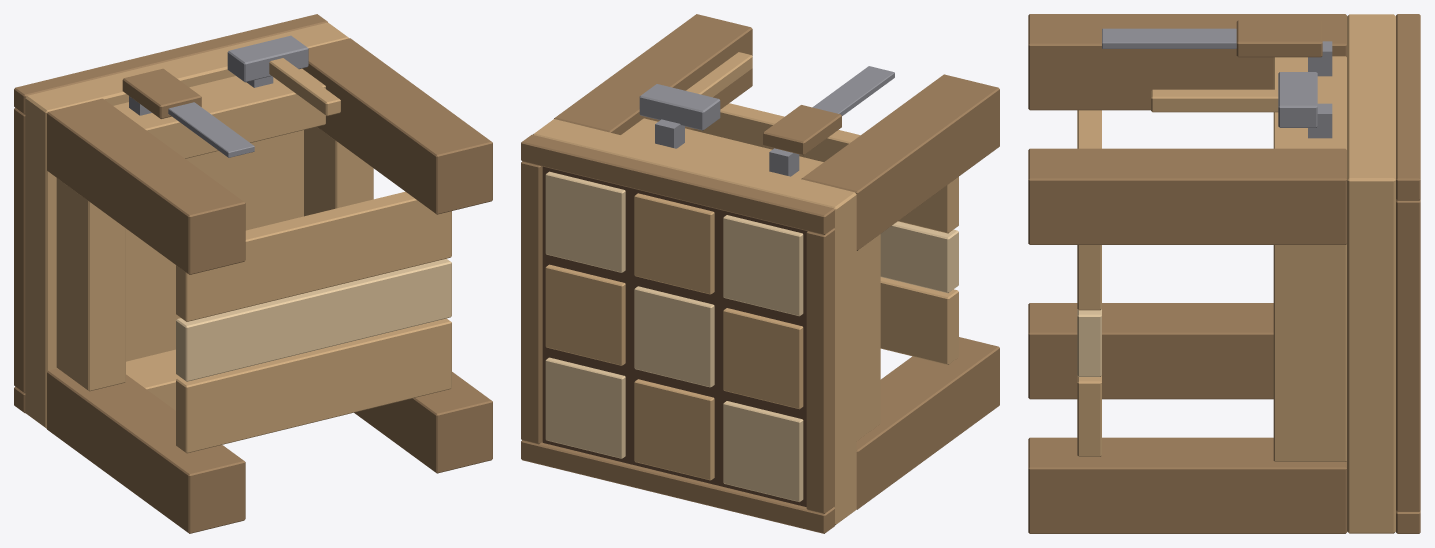
Rendered from table_held.gltf.
3 views of the same model, side by side, from view 1: azimuth 30°, elevation 25°; view 2: azimuth 150°, elevation 25°; view 3: azimuth 270°, elevation 25° (orthographic). The views are drawn at different scales.
Parts seen in each view (by area): view 1: craft_table_held; view 2: craft_table_held; view 3: craft_table_held.
Part boxes in pixels (x1=…): craft_table_held: x1=14, y1=14, x2=492, y2=533; craft_table_held: x1=521, y1=14, x2=999, y2=533; craft_table_held: x1=1028, y1=14, x2=1420, y2=533.
Bounding box in the file's own units: 0.16 × 0.175 × 0.16.
